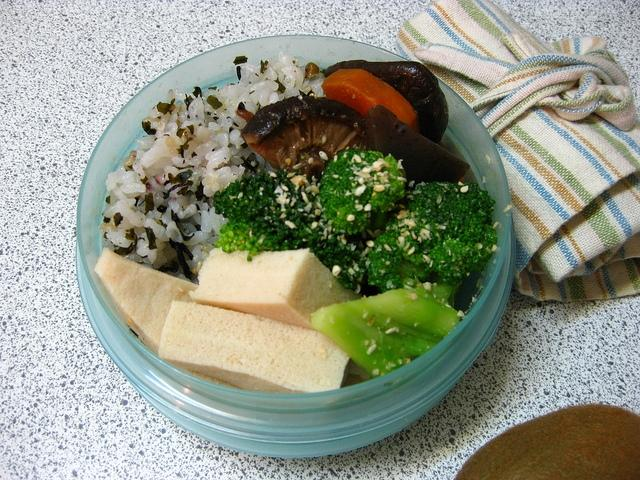broccoli: (311, 283, 465, 379), (366, 181, 496, 293), (314, 147, 406, 236), (213, 215, 303, 262)
carrot: (321, 68, 420, 134)
mushroom: (240, 96, 372, 186), (325, 60, 449, 145), (365, 106, 469, 185)
